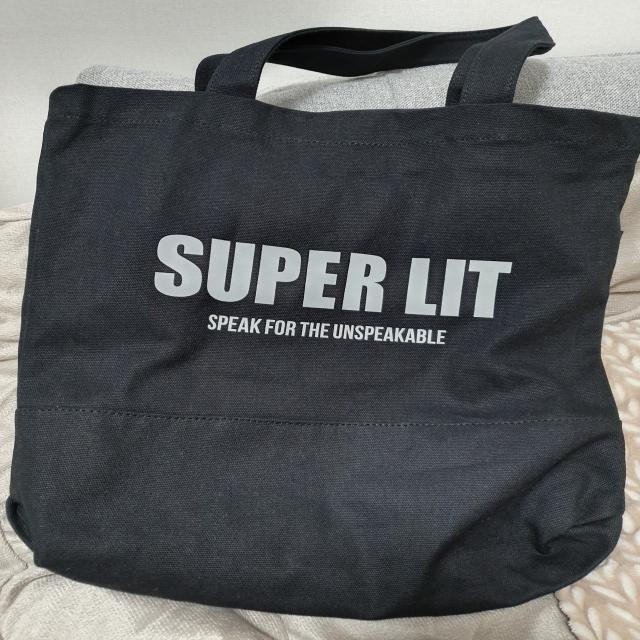ecobag: (20, 23, 640, 607)
